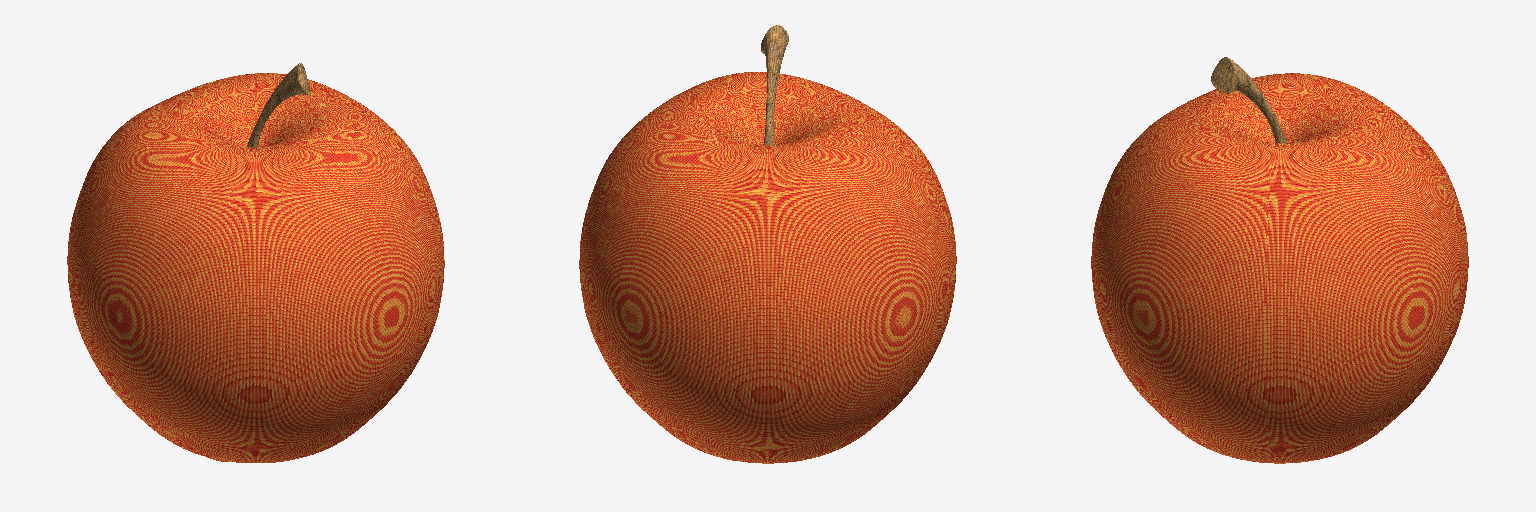
The picture shows the model from 3 angles: view 1: azimuth 30°, elevation 25°; view 2: azimuth 150°, elevation 25°; view 3: azimuth 270°, elevation 25°; orthographic projection.
Parts seen in each view (by area): view 1: Line01, Cylinder01; view 2: Line01, Cylinder01; view 3: Line01, Cylinder01.
Part boxes in pixels (bbox=[...]): Line01: bbox=[67, 73, 444, 462]; Cylinder01: bbox=[247, 63, 310, 147]; Line01: bbox=[579, 72, 956, 463]; Cylinder01: bbox=[761, 25, 788, 144]; Line01: bbox=[1091, 73, 1468, 463]; Cylinder01: bbox=[1211, 57, 1287, 142].
Size of the model in its own units: 26.19 by 31.74 by 26.19.
3 materials, 2 textured.